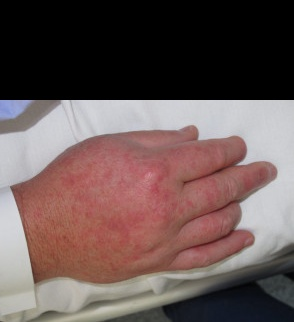SJS-TEN: (20, 135, 273, 278)
